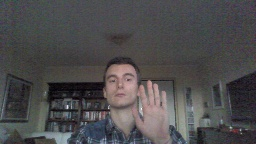Mano_aperta: (129, 79, 172, 144)
